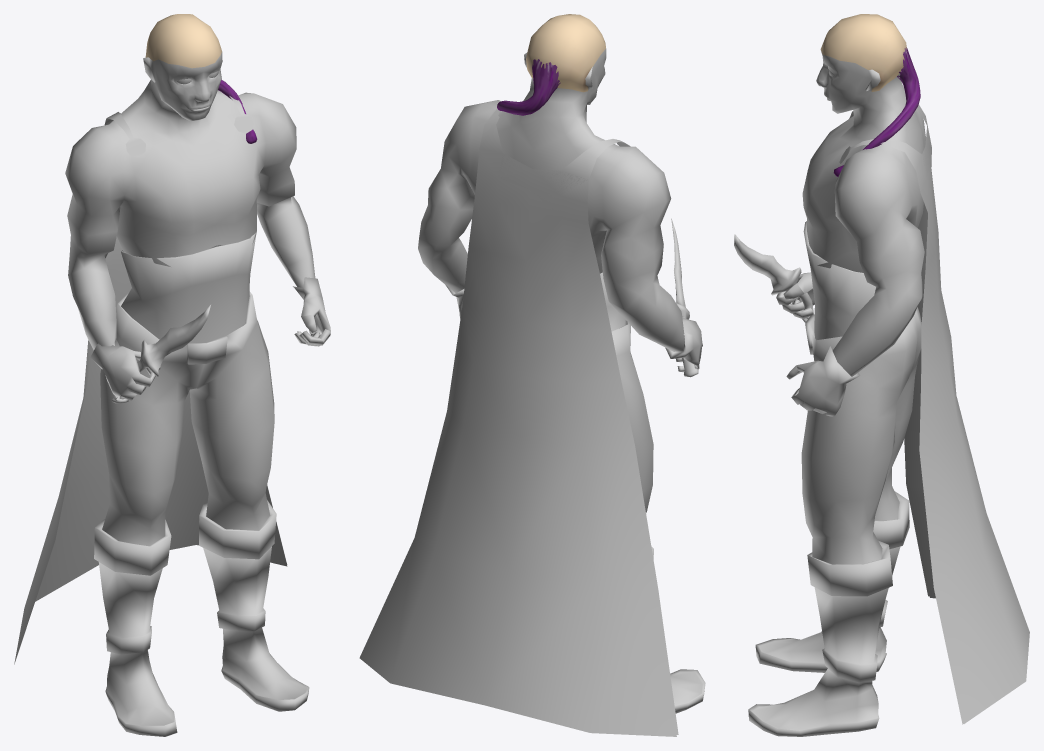
3 renders of one model, left to right at view 1: azimuth 30°, elevation 25°; view 2: azimuth 150°, elevation 25°; view 3: azimuth 270°, elevation 25°, orthographic. The views are drawn at different scales.
Visible parts, largest first — view 1: corps.002, corps.007, Cube, corps; view 2: corps.002, corps.007, cheveux2, Cube; view 3: corps.002, corps.007, Cube, cheveux2, corps.
Part boxes in pixels (left/top/right/bottom): corps.002: left=14, top=96, right=330, bottom=736; corps.007: left=65, top=14, right=315, bottom=350; Cube: left=112, top=305, right=210, bottom=403; corps: left=124, top=314, right=323, bottom=398; corps.002: left=359, top=108, right=705, bottom=736; corps.007: left=418, top=14, right=684, bottom=351; cheveux2: left=497, top=59, right=560, bottom=115; Cube: left=671, top=218, right=698, bottom=377; corps.002: left=748, top=104, right=1029, bottom=736; corps.007: left=802, top=14, right=925, bottom=376; Cube: left=734, top=234, right=813, bottom=322; cheveux2: left=833, top=47, right=920, bottom=176; corps: left=776, top=283, right=814, bottom=404.
Bounding box in the file's own units: 2.07 × 4.54 × 1.79.
